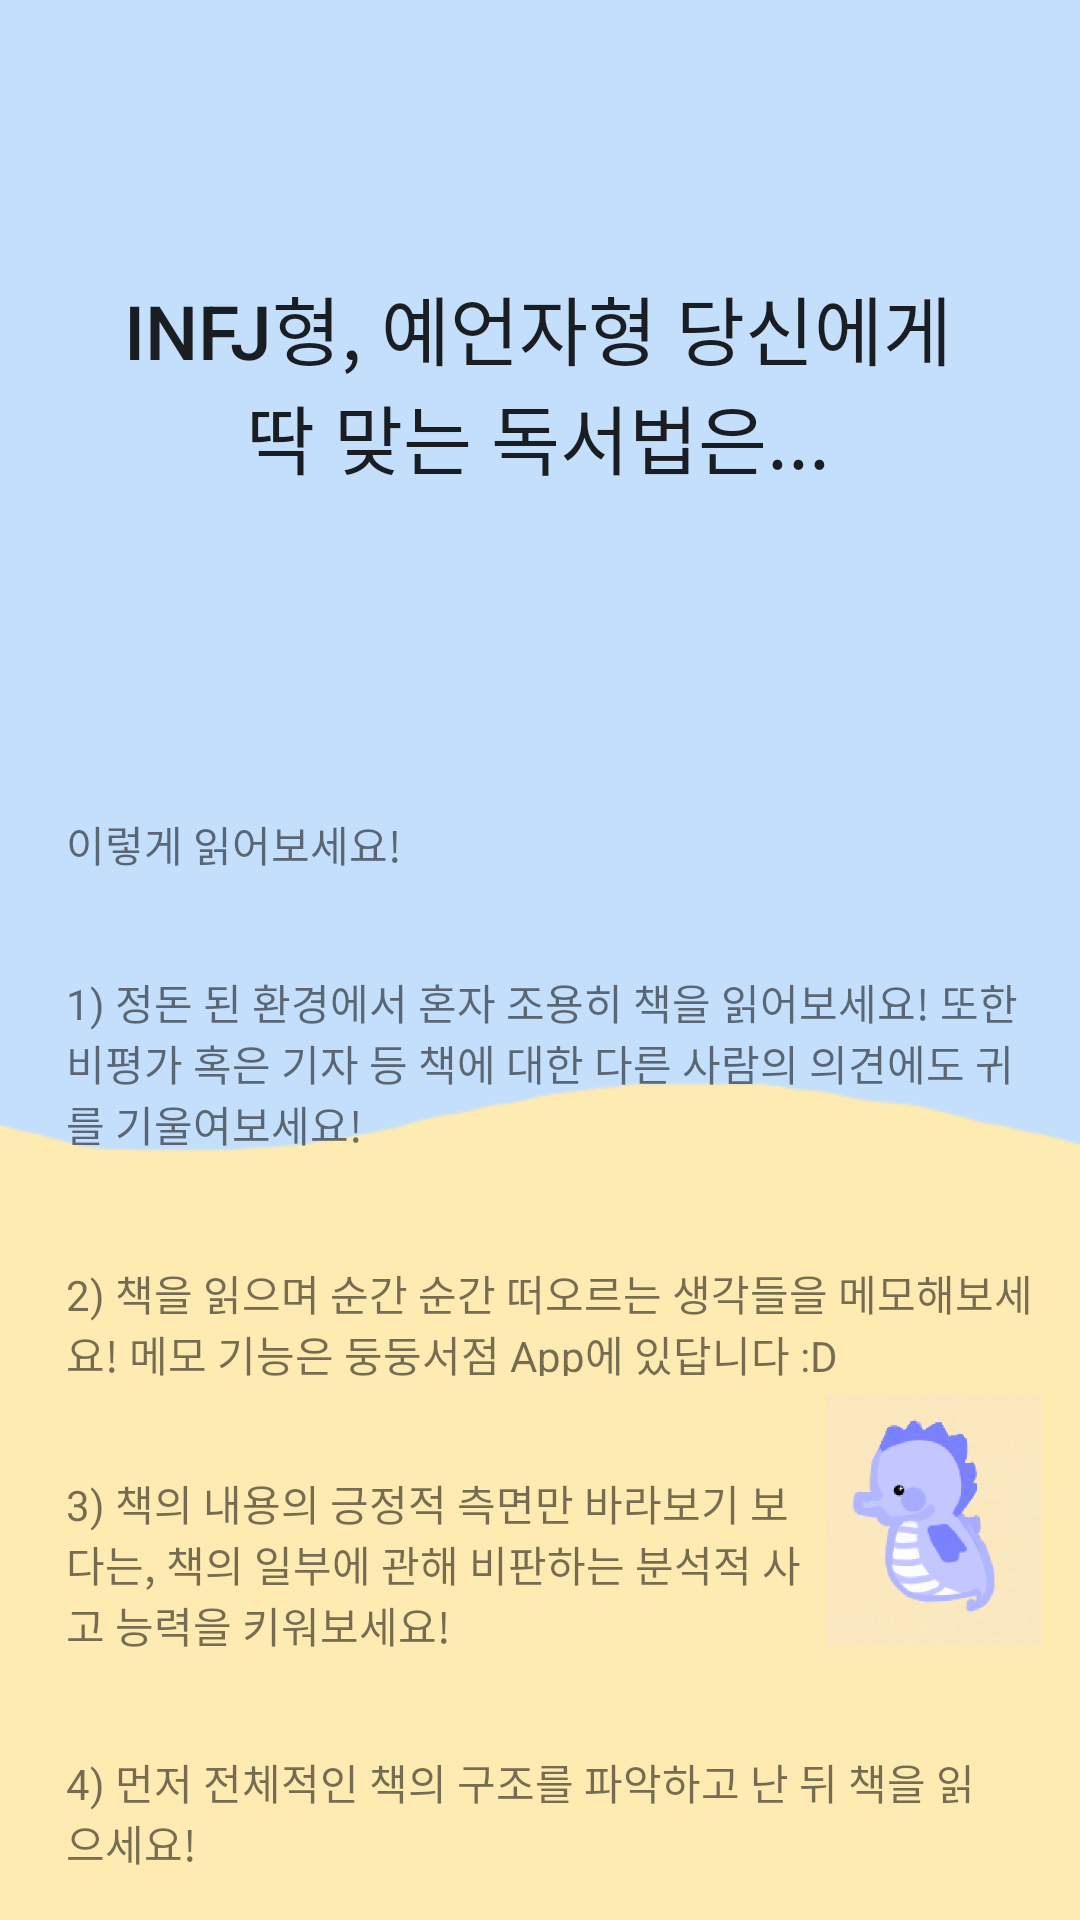

Icon bounding boxes for this 1080w x 1920h phone screenshot, format (x1, y1, x2, y2):
seahorse: (852, 1419, 995, 1613)
